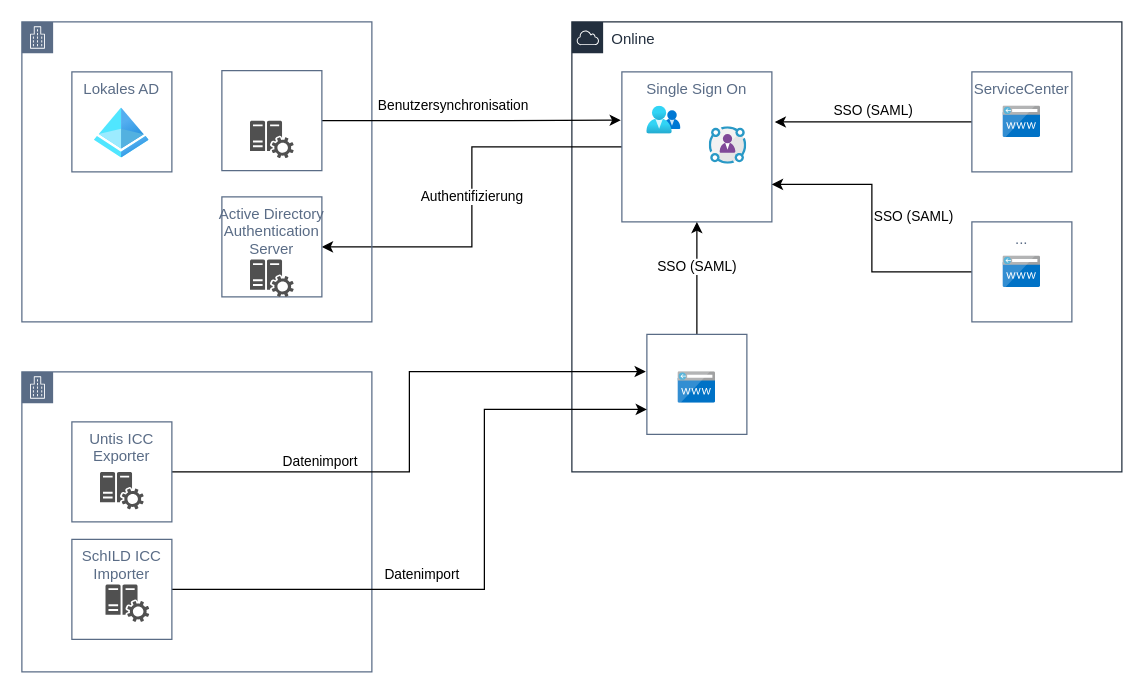
The diagram is 1144 pixels wide and 694 high, and some of its shapes have lost their labels. Each missing label, with the box of its shape:
Active Directory Connect Client: (221, 69, 322, 171)
ICC: (646, 333, 747, 434)
Pädagogisches Netzwerk (optional): (21, 21, 372, 322)
Verwaltung: (21, 371, 372, 672)
